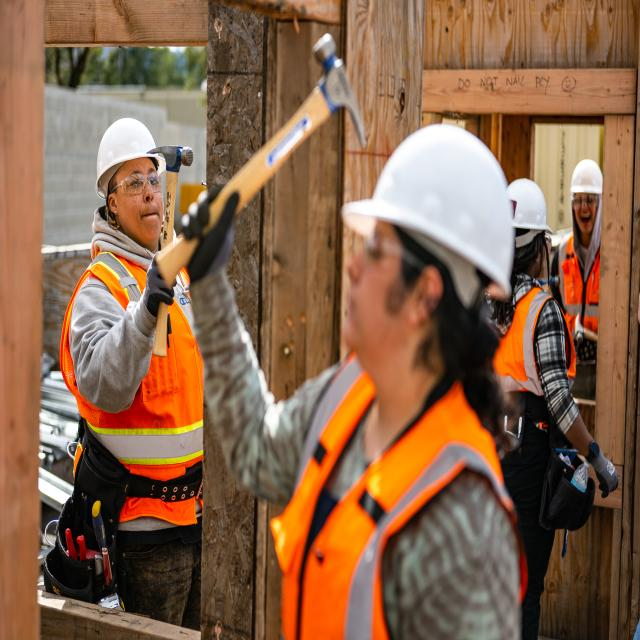Gloves: (177, 180, 244, 291), (130, 243, 183, 321), (581, 433, 622, 506)
Hard Hat: (339, 125, 518, 298), (89, 116, 168, 201), (501, 172, 554, 234), (566, 152, 613, 196)
Reflective Vest: (277, 345, 528, 640), (58, 240, 223, 528), (486, 287, 580, 399), (560, 229, 612, 346)
Safety Glasses: (348, 221, 447, 298), (106, 175, 169, 202), (571, 192, 602, 216), (534, 226, 553, 254)
